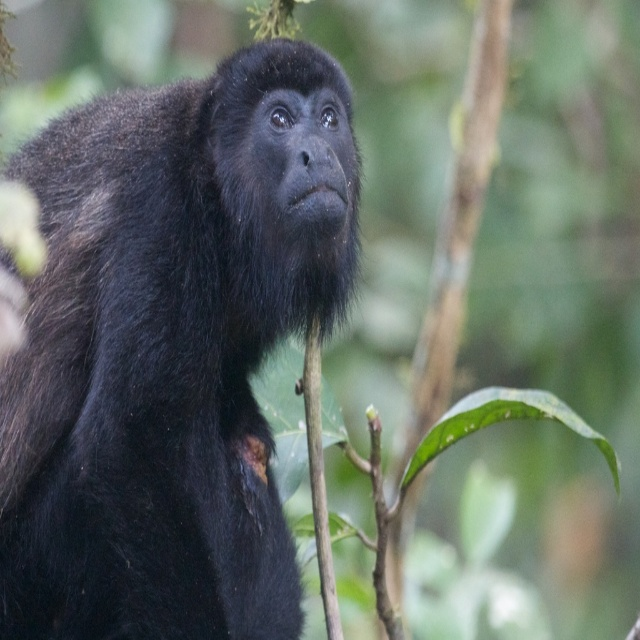Monkey: (3, 34, 373, 638)
